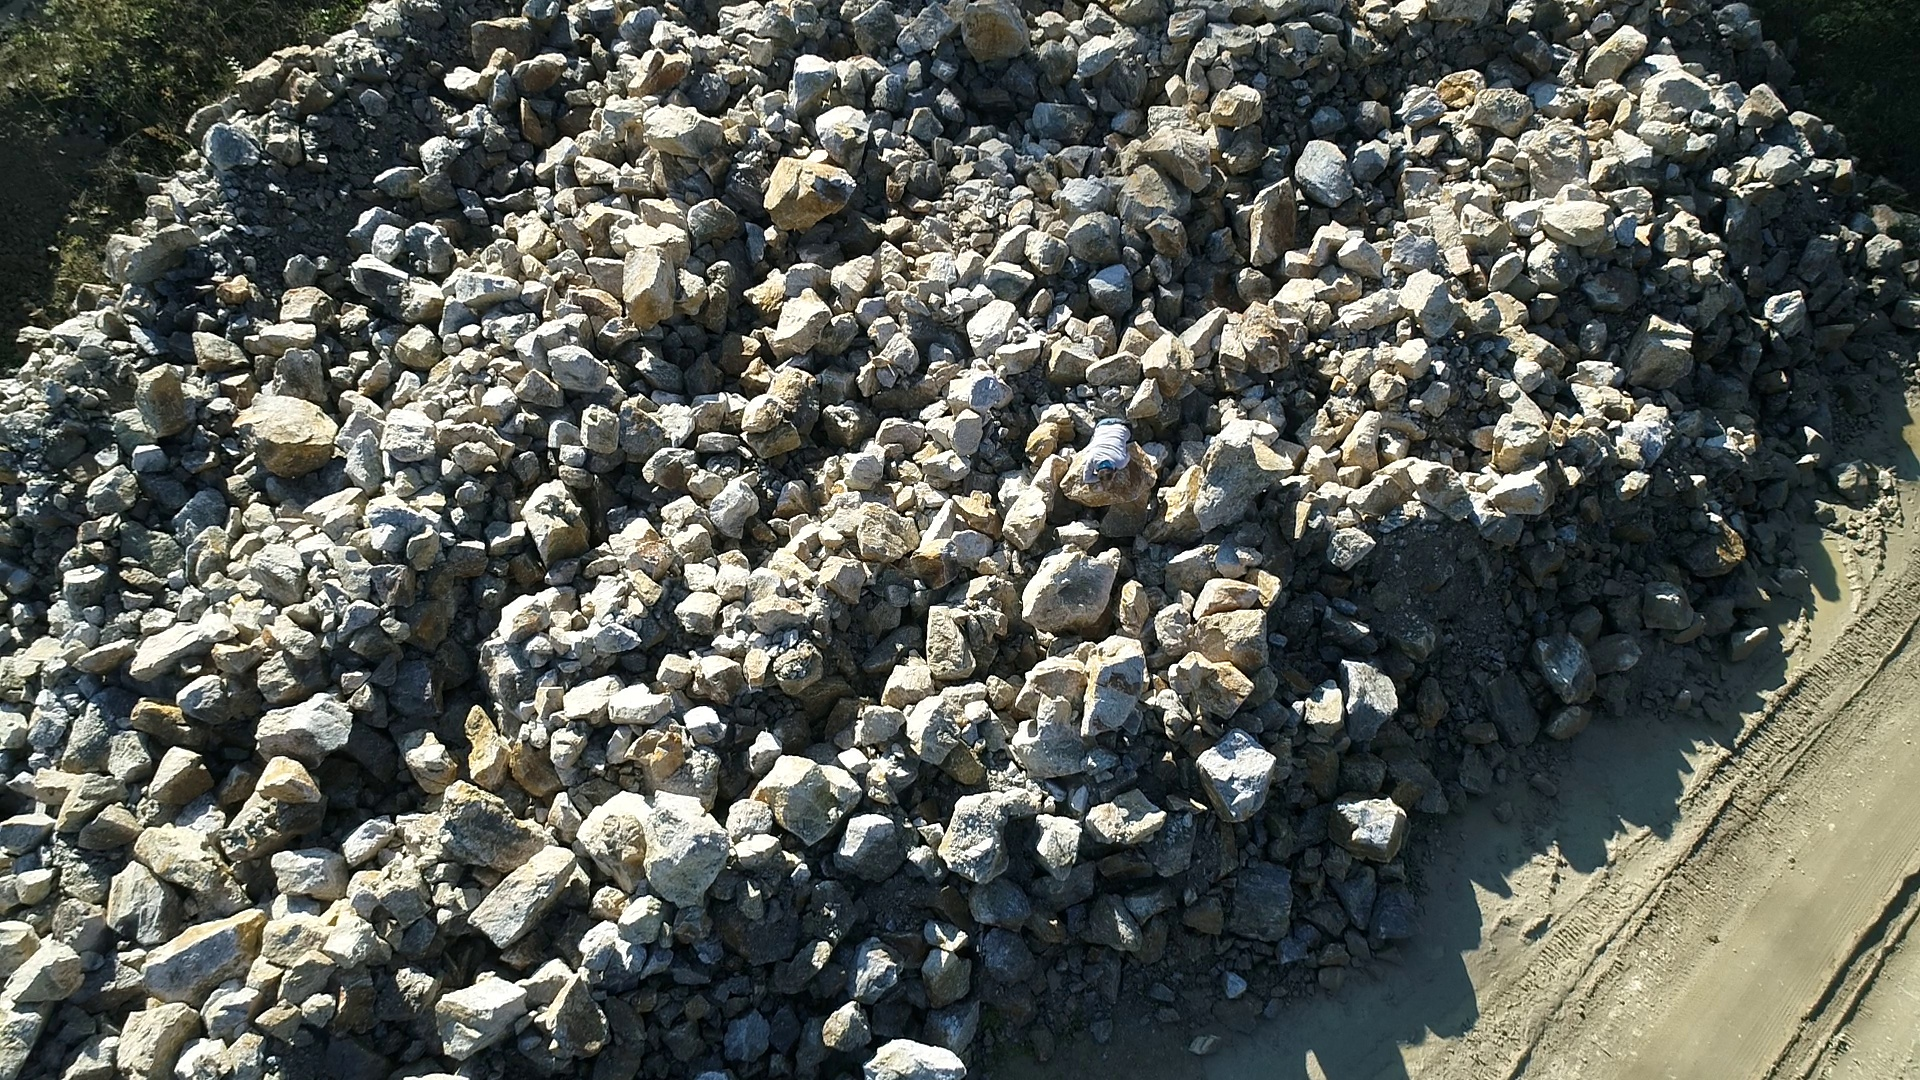person: (1081, 412, 1133, 484)
